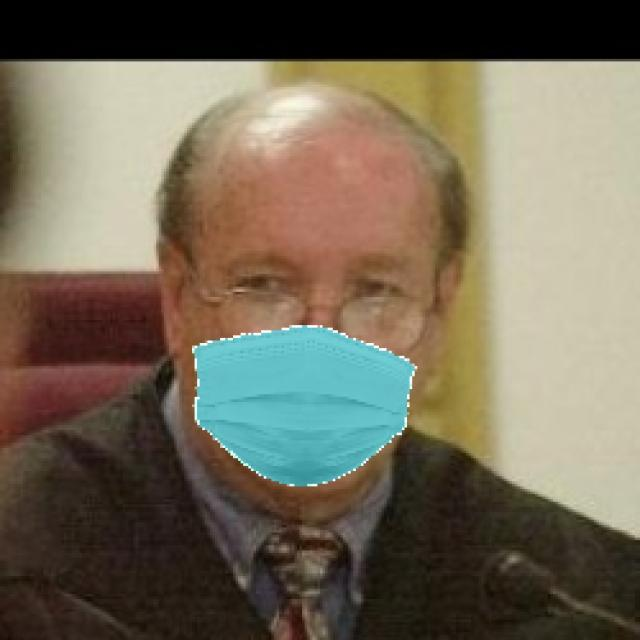surgical: (179, 152, 445, 488)
